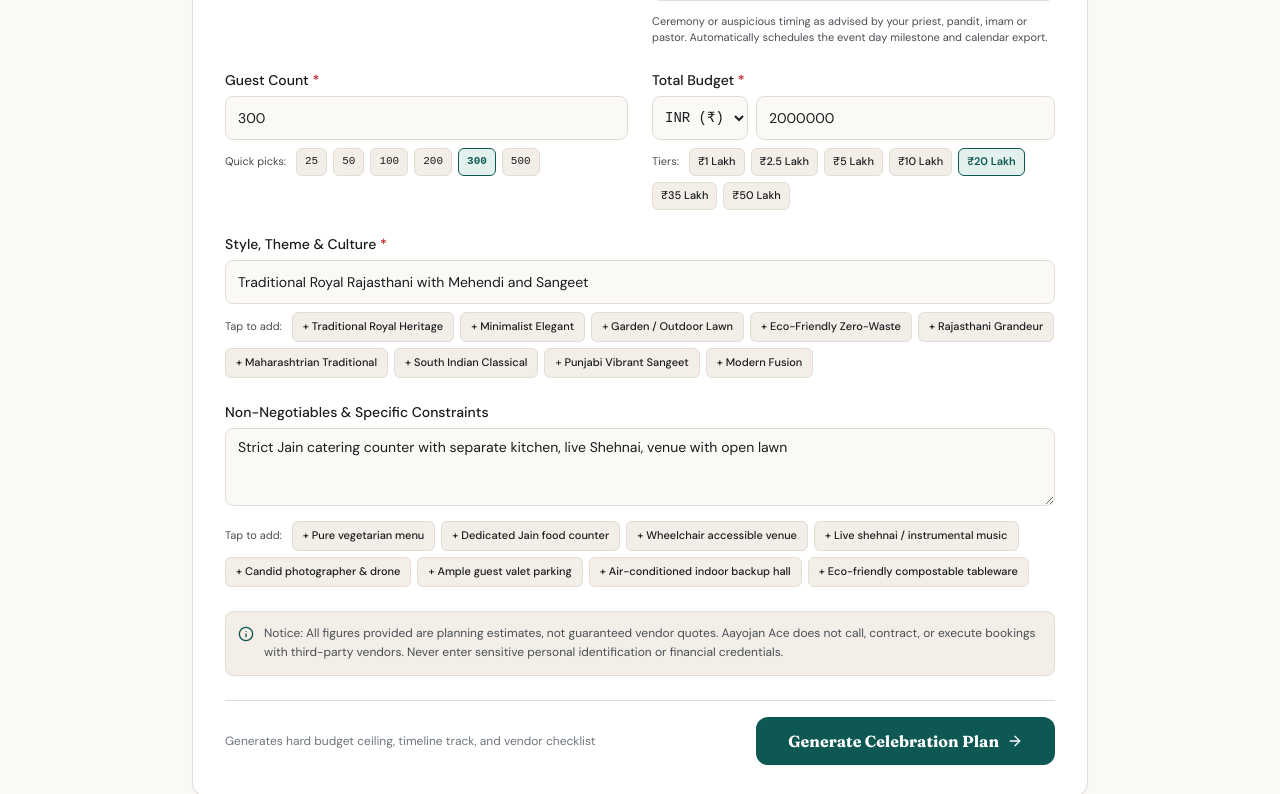
it: Task B: Plan Generation Failure & Navigation Rules › Typed Error Messages and Retry Button Styling › renders rate limit message with exact seconds to wait when provided
(page scrolled)
Click the button "Generate Celebration Plan". click: (906, 740)
box: [756, 716, 1055, 764]
(page scrolled)
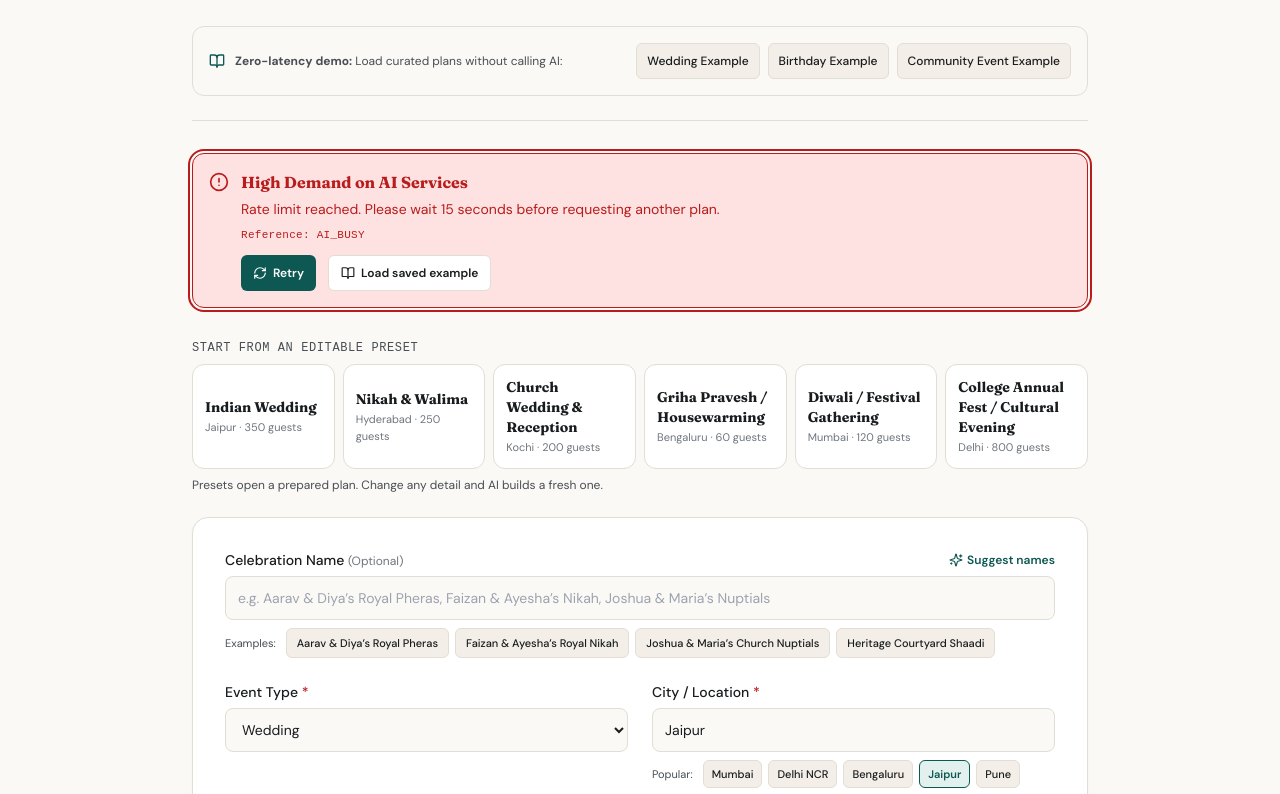
expect the message shows "wait 15 seconds": met, box [241, 200, 720, 218]
